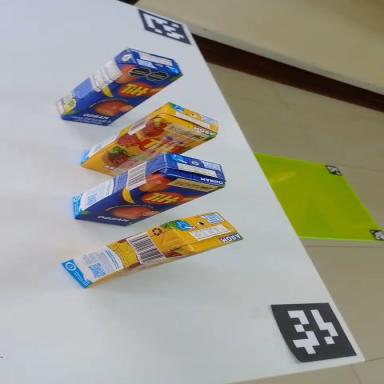HIT-MANGO: (64, 136, 228, 244), (50, 30, 184, 145)
HIT-MORA: (59, 203, 243, 293), (73, 87, 223, 195)
cara_F: (72, 155, 225, 244), (79, 102, 213, 197), (60, 47, 182, 145)
